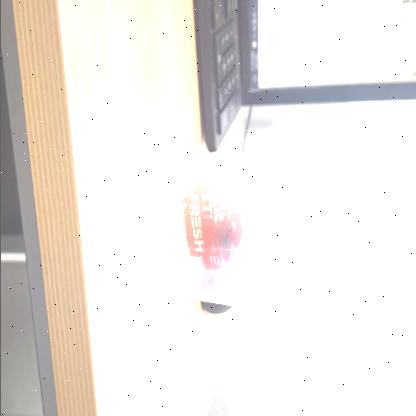Others: (130, 125, 304, 336)
